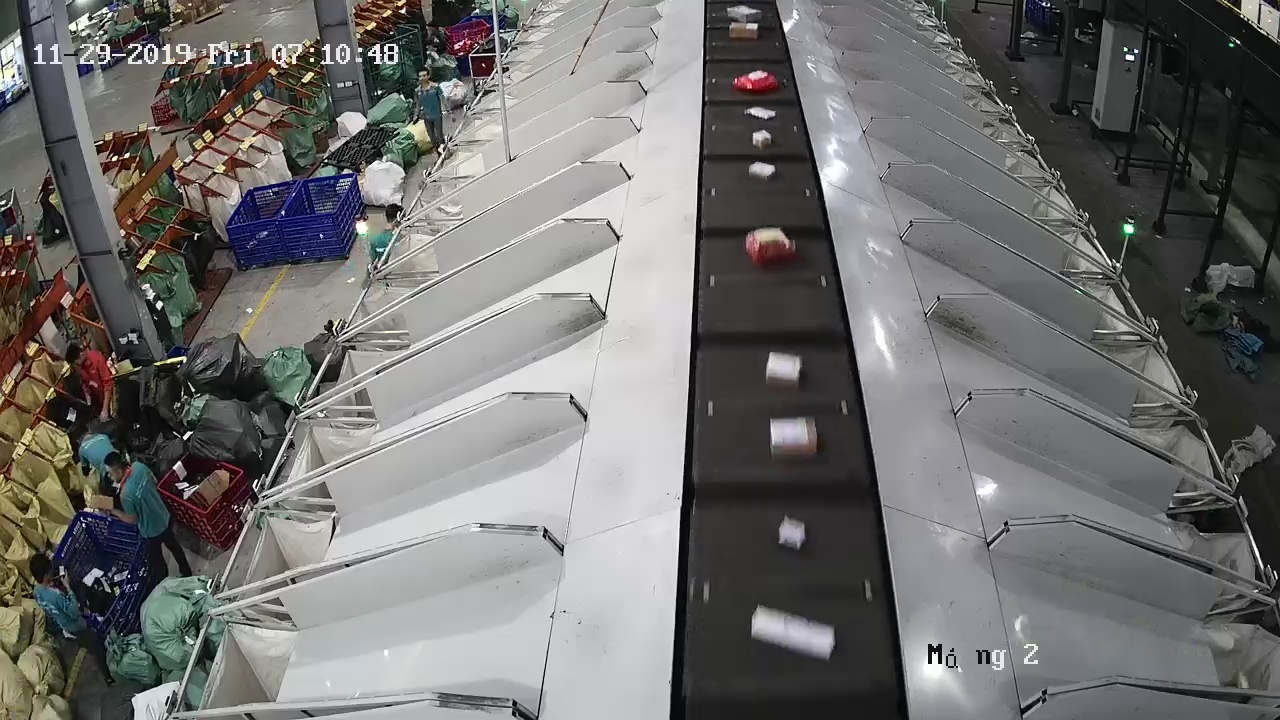parcel: (751, 605, 836, 663), (769, 416, 818, 462), (745, 226, 799, 267), (765, 351, 802, 389), (778, 517, 805, 549), (748, 161, 776, 182), (743, 106, 776, 120), (752, 129, 772, 150)
